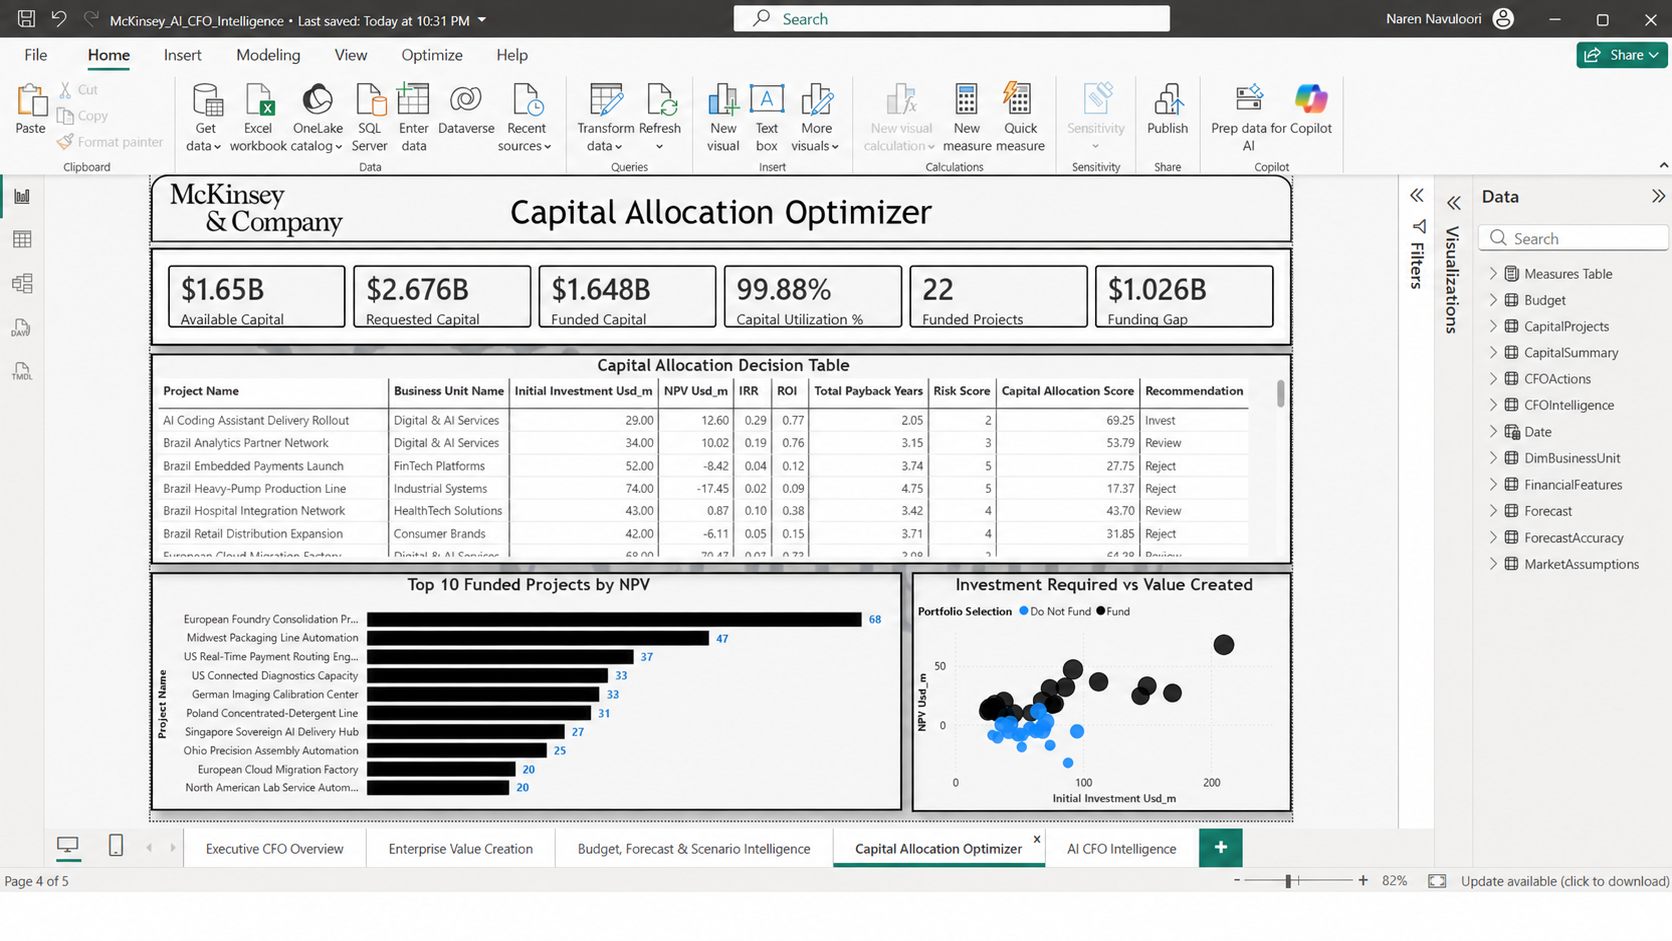

Layout of this report page (visuals, bound fields, positions):
{"tool":"powerbi","page":{"name":"Capital Allocation Optimizer","canvas":[1280,720],"ordinal":3},"visuals":[{"type":"shape","box":[0,0,1280.3,75.8],"z":0},{"type":"image","box":[14,5.1,207.4,66.2],"z":1000},{"type":"cardVisual","fields":{"Data":["Measures Table.Available Capital","Measures Table.Requested Capital","Measures Table.Funded Capital","Measures Table.Capital Utilization %","Measures Table.Funded Projects","Measures Table.Funding Gap"]},"box":[0,81.4,1280.3,110.7],"z":2000},{"type":"scatterChart","title":"Investment Required vs Value Created","fields":{"X":["Sum(CapitalProjects.initial_investment_usd_m)"],"Y":["Sum(CapitalProjects.npv_usd_m)"],"Size":["Sum(CapitalProjects.capital_allocation_score)"],"Series":["CapitalProjects.portfolio_selection"],"Category":["CapitalProjects.project_name"]},"box":[853.5,443,426.8,267.8],"z":3000},{"type":"barChart","title":"Top 10 Funded Projects by NPV","fields":{"Category":["CapitalProjects.project_name"],"Y":["Sum(CapitalProjects.npv_usd_m)"]},"box":[0,443,843.5,266.6],"z":4000},{"type":"tableEx","title":"Capital Allocation Decision Table","fields":{"Values":["CapitalProjects.project_name","CapitalProjects.business_unit_name","Sum(CapitalProjects.initial_investment_usd_m)","Sum(CapitalProjects.npv_usd_m)","Sum(CapitalProjects.irr)","Sum(CapitalProjects.roi)","Sum(CapitalProjects.payback_years)","Sum(CapitalProjects.risk_score)","Sum(CapitalProjects.capital_allocation_score)","CapitalProjects.investment_recommendation"]},"box":[0,200.2,1280.3,234],"z":5000}]}

Visuals, with their boxes on the page's 1280x720 design canvas (x1, y1, x2, y2). These are canvas units, not pixel positions in the 1672x941 screenshot, which may show the page scaled, cropped or inside an application window:
shape: Rect(0, 0, 1280, 76)
image: Rect(14, 5, 221, 71)
cardVisual - Measures Table.Available Capital x Measures Table.Requested Capital: Rect(0, 81, 1280, 192)
"Investment Required vs Value Created" scatterChart: Rect(854, 443, 1280, 711)
"Top 10 Funded Projects by NPV" barChart: Rect(0, 443, 844, 710)
"Capital Allocation Decision Table" tableEx: Rect(0, 200, 1280, 434)
